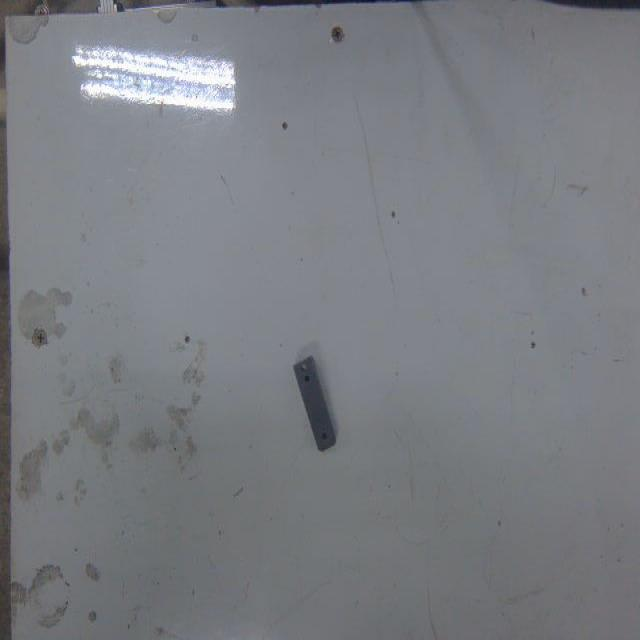grey: (295, 354, 338, 456)
head: (320, 432, 328, 441)
